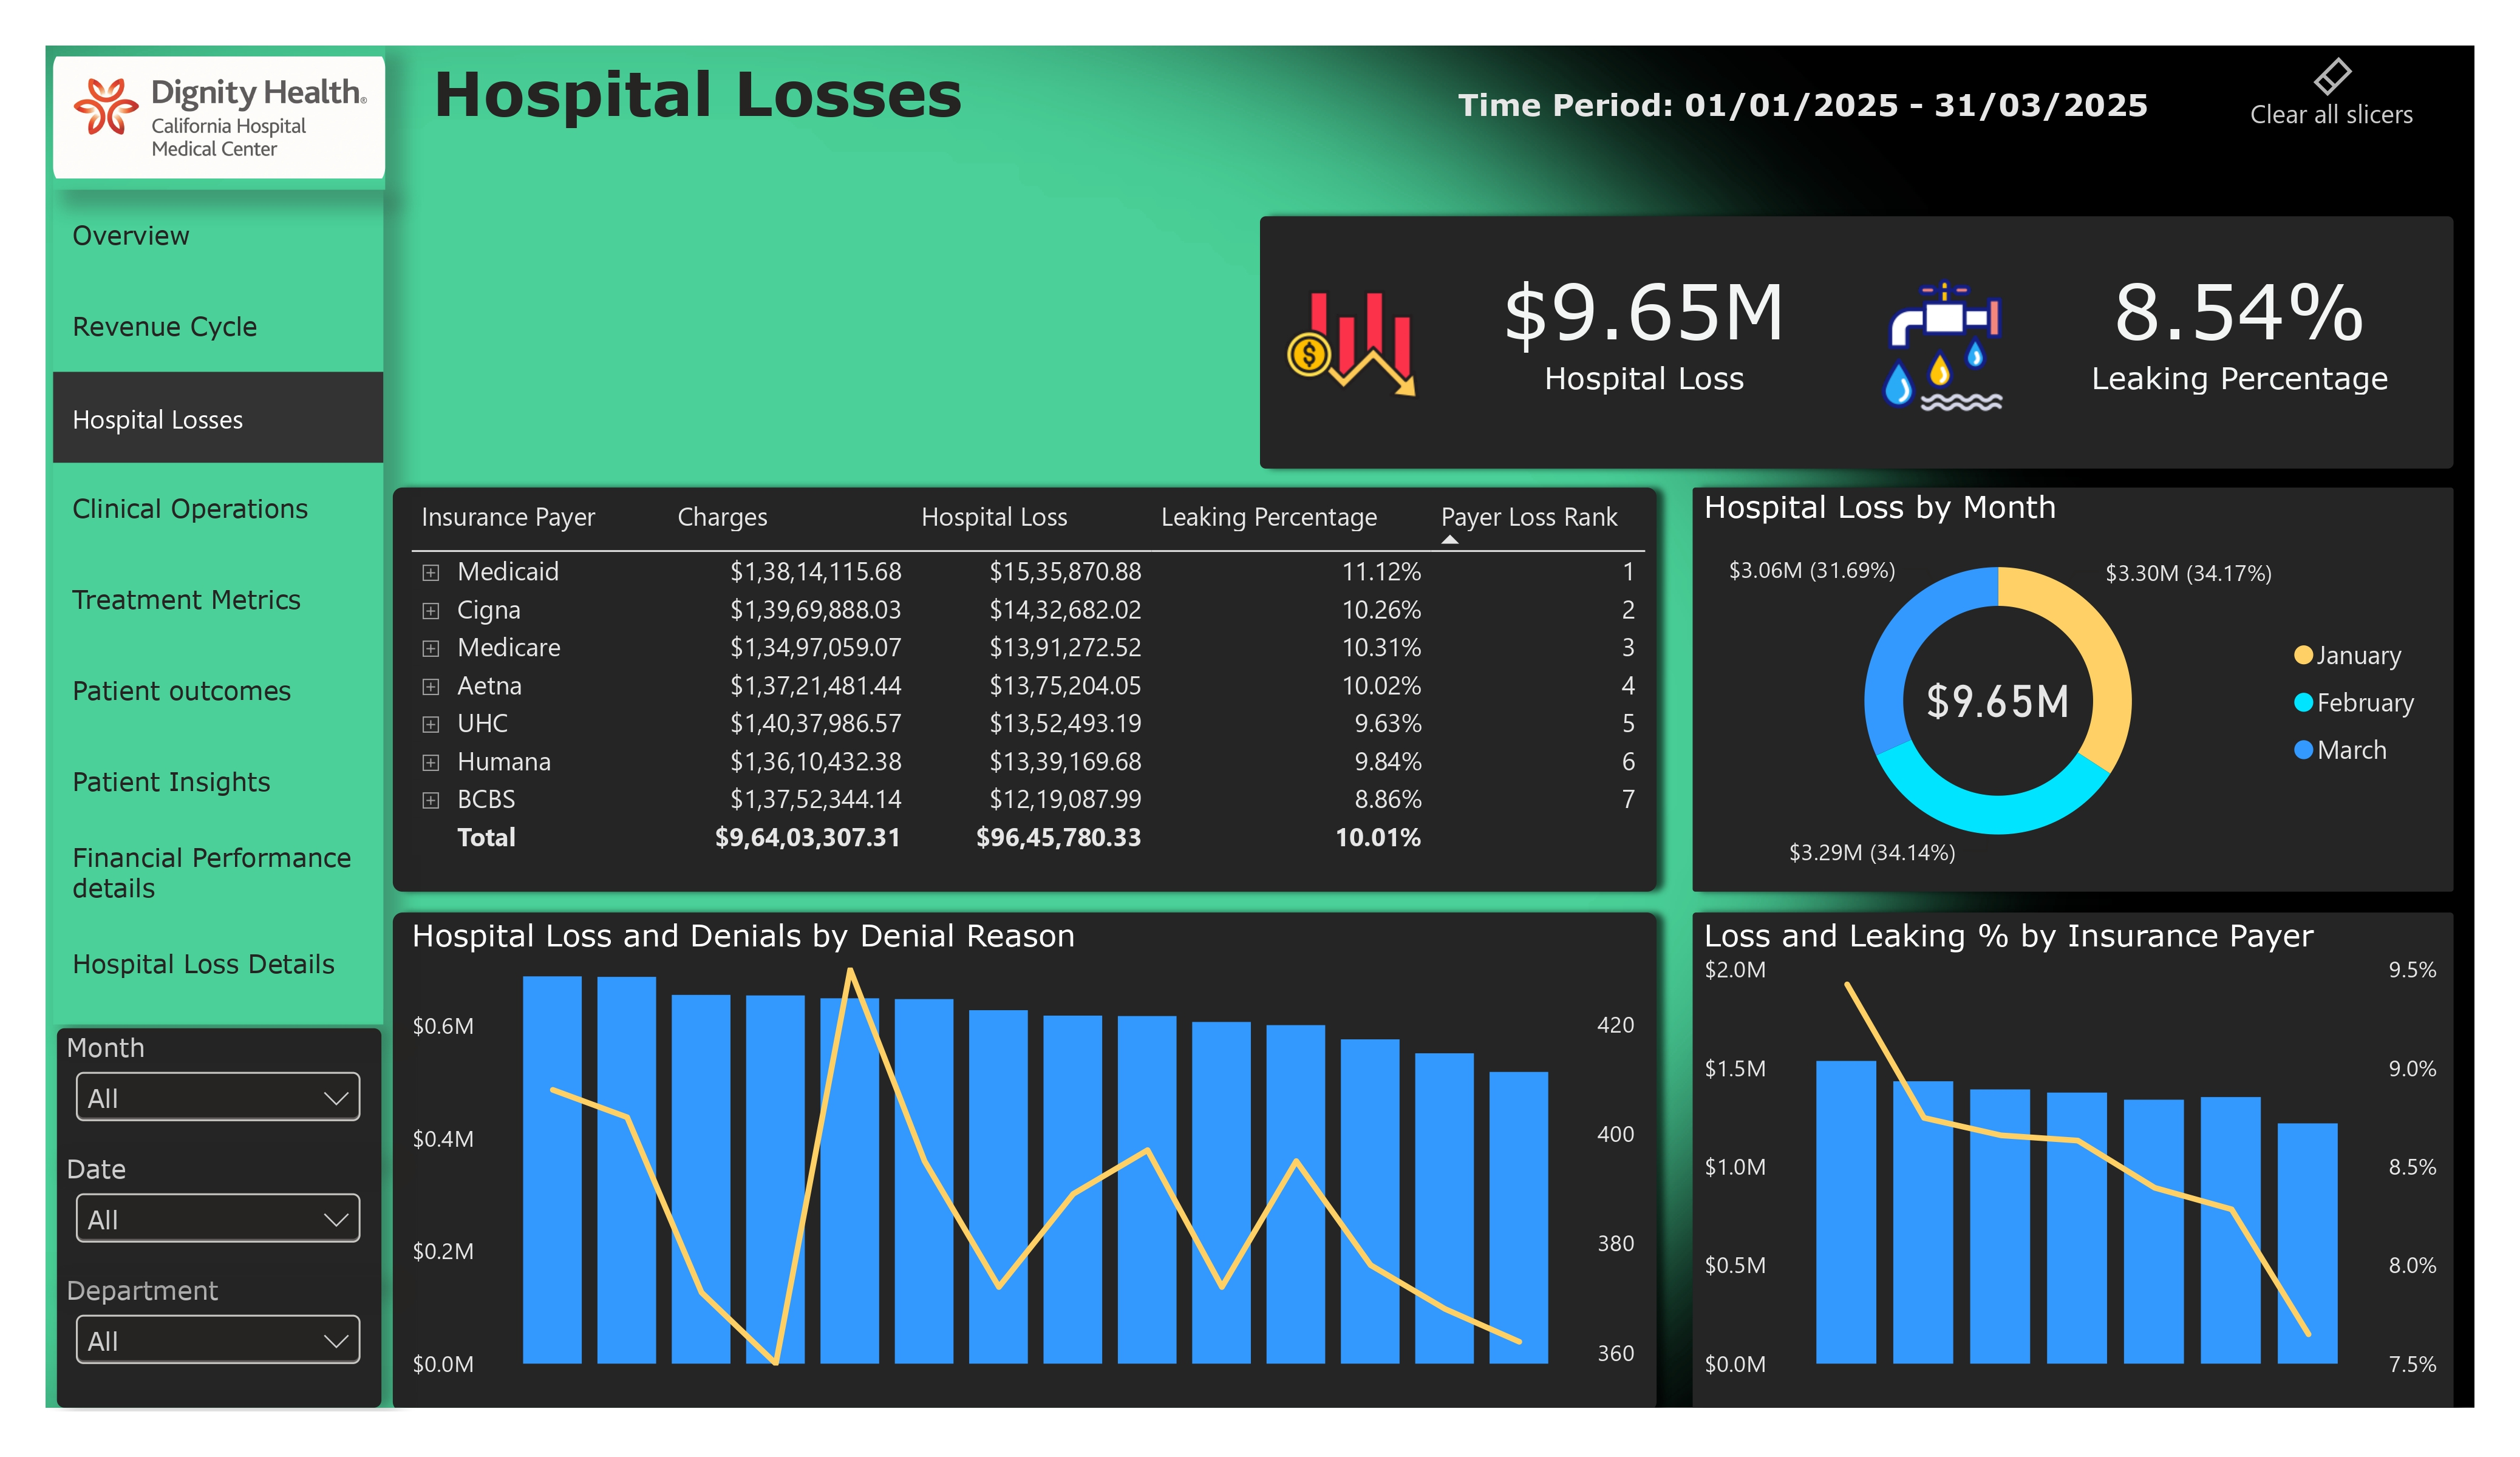

The dashboard page shown, as its layout file describes it:
{"tool":"powerbi","page":{"name":"Hospital Losses","canvas":[1280,720],"ordinal":2},"visuals":[{"type":"pageNavigator","box":[3.8,76.2,174,440],"z":0},{"type":"cardVisual","fields":{"Data":["_Measures.Leaking Percentage"]},"box":[1051,88.1,211.2,135],"z":1000},{"type":"slicer","title":"Department","fields":{"Values":["Encounters.department"]},"box":[6.3,647.8,170,61.2],"z":2000},{"type":"slicer","title":"Month","fields":{"Values":["Calendar.Month Name"]},"box":[6.3,520.3,170,64.1],"z":3000},{"type":"textbox","box":[198.8,0,931.2,53.8],"z":4000},{"type":"cardVisual","fields":{"Data":["_Measures.Hospital Loss"]},"box":[735,87.5,215,135],"z":5000},{"type":"slicer","title":"Date","fields":{"Values":["Encounters.admission_date"]},"box":[6.3,584.4,170,64.1],"z":6000},{"type":"actionButton","box":[1130,0,150,50],"z":7000},{"type":"image","box":[3.8,0,175,76.2],"z":8000},{"type":"pivotTable","fields":{"Rows":["Claims and billing.insurance_payer","Claims and billing.claim_id"],"Values":["_Measures.Total Charges","_Measures.Hospital Loss","_Measures.Leaking Percentage","_Measures.Payer Loss Rank"]},"box":[187.5,232.5,663.8,211.2],"z":9000},{"type":"lineStackedColumnComboChart","fields":{"Category":["Denials.denial_reason"],"Y":["_Measures.Hospital Loss"],"Y2":["CountNonNull(Denials.appeal_status)"]},"box":[187.5,458.8,655,250],"z":10000},{"type":"donutChart","fields":{"Y":["_Measures.Hospital Loss"],"Category":["Calendar.Month Name"]},"box":[868.8,232.5,393.8,211.2],"z":11000},{"type":"lineStackedColumnComboChart","title":"Loss and Leaking % by Insurance Payer","fields":{"Category":["Claims and billing.insurance_payer"],"Y":["_Measures.Hospital Loss"],"Y2":["_Measures.Leaking Percentage"]},"box":[868.8,458.8,397.5,250],"z":12000}]}

Visuals, with their boxes on the page's 1280x720 design canvas (x1, y1, x2, y2). These are canvas units, not pixel positions in the 2520x1457 screenshot, which may show the page scaled, cropped or inside an application window:
pageNavigator: [x1=4, y1=76, x2=178, y2=516]
cardVisual - _Measures.Leaking Percentage: [x1=1051, y1=88, x2=1262, y2=223]
"Department" slicer: [x1=6, y1=648, x2=176, y2=709]
"Month" slicer: [x1=6, y1=520, x2=176, y2=584]
textbox: [x1=199, y1=0, x2=1130, y2=54]
cardVisual - _Measures.Hospital Loss: [x1=735, y1=88, x2=950, y2=222]
"Date" slicer: [x1=6, y1=584, x2=176, y2=648]
actionButton: [x1=1130, y1=0, x2=1280, y2=50]
image: [x1=4, y1=0, x2=179, y2=76]
pivotTable - Claims and billing.insurance_payer x Claims and billing.claim_id: [x1=188, y1=232, x2=851, y2=444]
lineStackedColumnComboChart - Denials.denial_reason x _Measures.Hospital Loss: [x1=188, y1=459, x2=842, y2=709]
donutChart - _Measures.Hospital Loss x Calendar.Month Name: [x1=869, y1=232, x2=1263, y2=444]
"Loss and Leaking % by Insurance Payer" lineStackedColumnComboChart: [x1=869, y1=459, x2=1266, y2=709]
